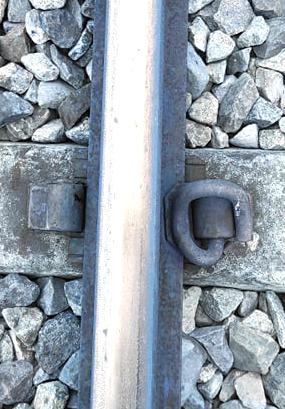error1: (173, 175, 269, 264), (23, 162, 96, 247)
